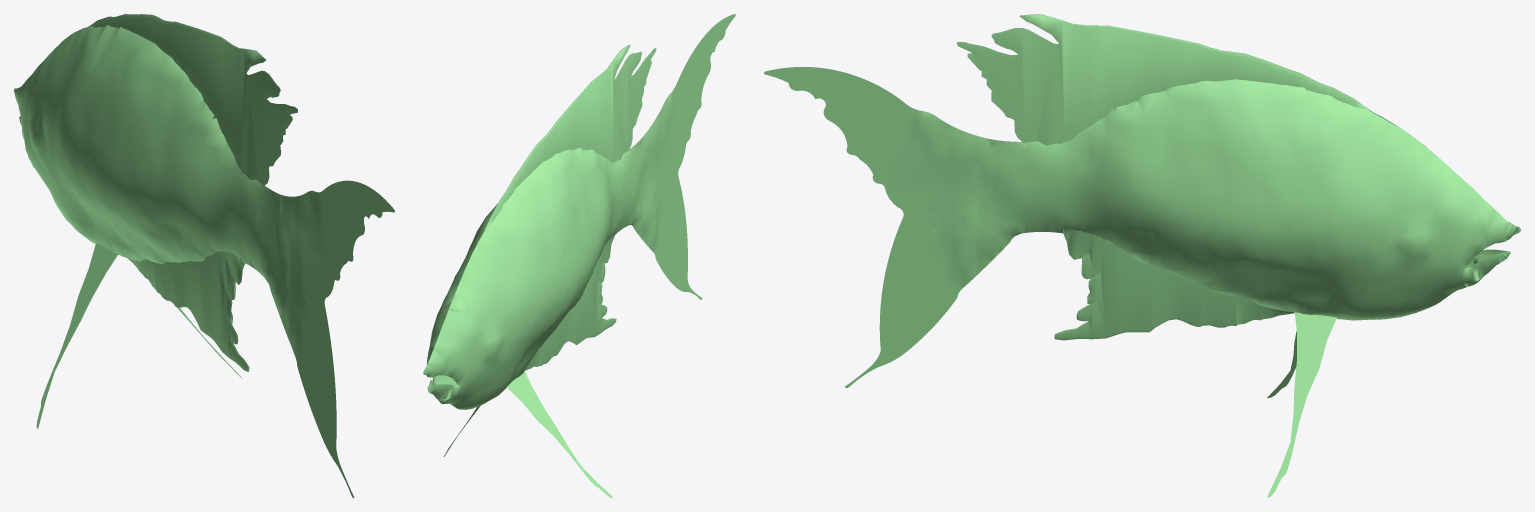
Rendered from fish.dae.
3 views of the same model, side by side, from view 1: azimuth 30°, elevation 25°; view 2: azimuth 150°, elevation 25°; view 3: azimuth 270°, elevation 25° (orthographic). The views are drawn at different scales.
Visible parts, largest first — view 1: Group_001, Group_003; view 2: Group_001, Group_003; view 3: Group_001, Group_002.
Part boxes in pixels (box(x1,y1,x2,y2)): Group_001: box(14, 14, 394, 497); Group_003: box(36, 242, 117, 428); Group_001: box(423, 14, 735, 409); Group_003: box(507, 371, 612, 497); Group_001: box(764, 14, 1520, 387); Group_002: box(1267, 312, 1336, 497).
Size of the model in its own units: 13 by 26.39 by 41.66.
